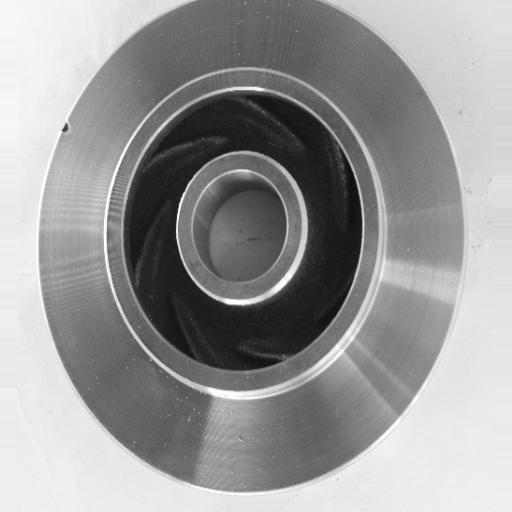crack: (54, 111, 76, 139)
unpolished_casting: (37, 1, 467, 497)
